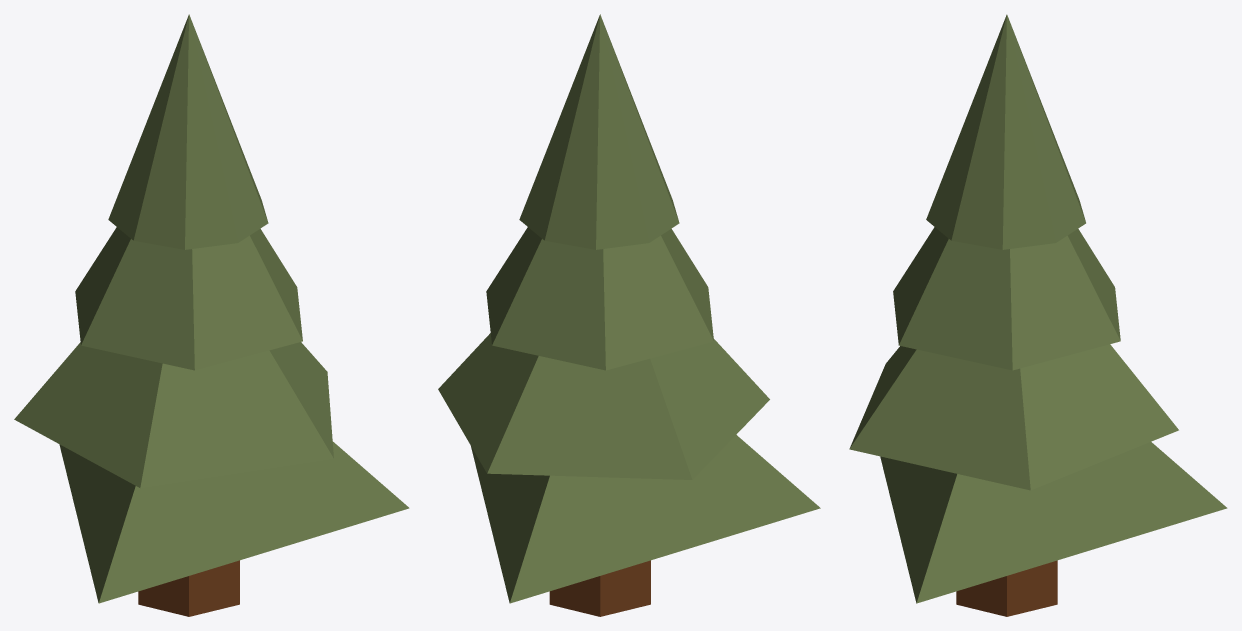
The model's file is tree3.glb.
3 views of the same model, side by side, from view 1: azimuth 30°, elevation 25°; view 2: azimuth 150°, elevation 25°; view 3: azimuth 270°, elevation 25° (orthographic).
Visible parts, largest first — view 1: Plane; view 2: Plane; view 3: Plane.
Boxes of the visible parts, x1,y1,x2,y2 form: Plane: (14, 14, 409, 616); Plane: (438, 14, 820, 616); Plane: (849, 14, 1227, 616).
Bounding box in the file's own units: 3.27 × 5.45 × 3.23.
